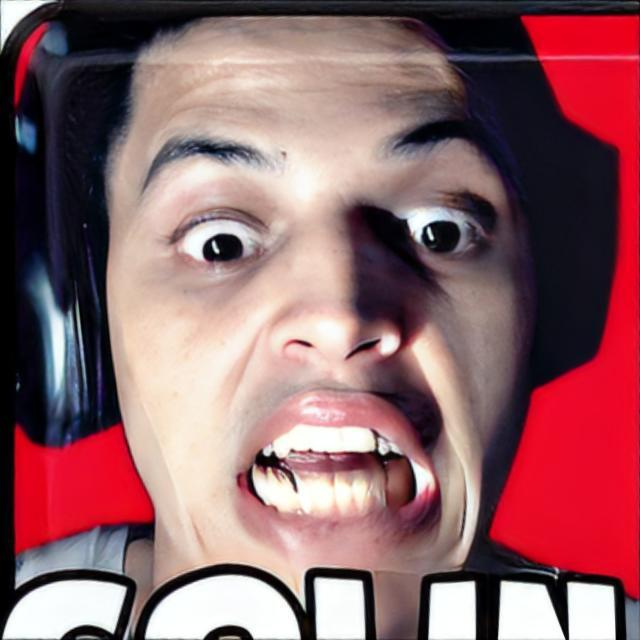Fear: (110, 14, 527, 567)
